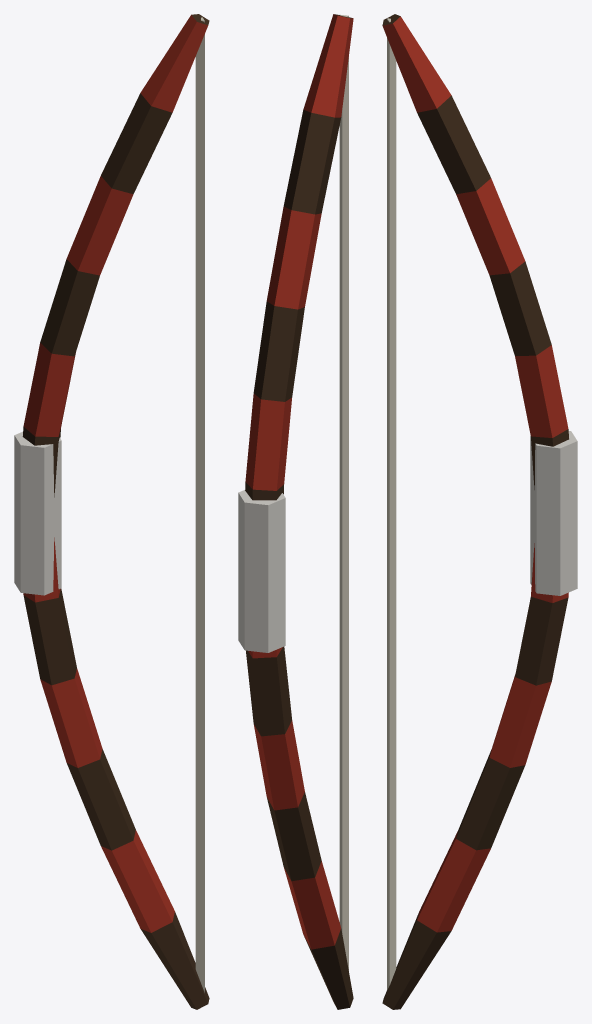
File: weapon_bow.glb
The picture shows the model from 3 angles, left to right: view 1: azimuth 90°, elevation 25°; view 2: azimuth 150°, elevation 25°; view 3: azimuth 270°, elevation 25°; orthographic projection.
Visible parts, largest first — view 1: elephant_weapon_bow; view 2: elephant_weapon_bow; view 3: elephant_weapon_bow.
Part boxes in pixels (box(x1,y1,x2,y2)): elephant_weapon_bow: box(14, 14, 209, 1009); elephant_weapon_bow: box(238, 14, 353, 1009); elephant_weapon_bow: box(382, 14, 577, 1009).
Size of the model in its own units: 0.0417 by 0.9681 by 0.1724.
